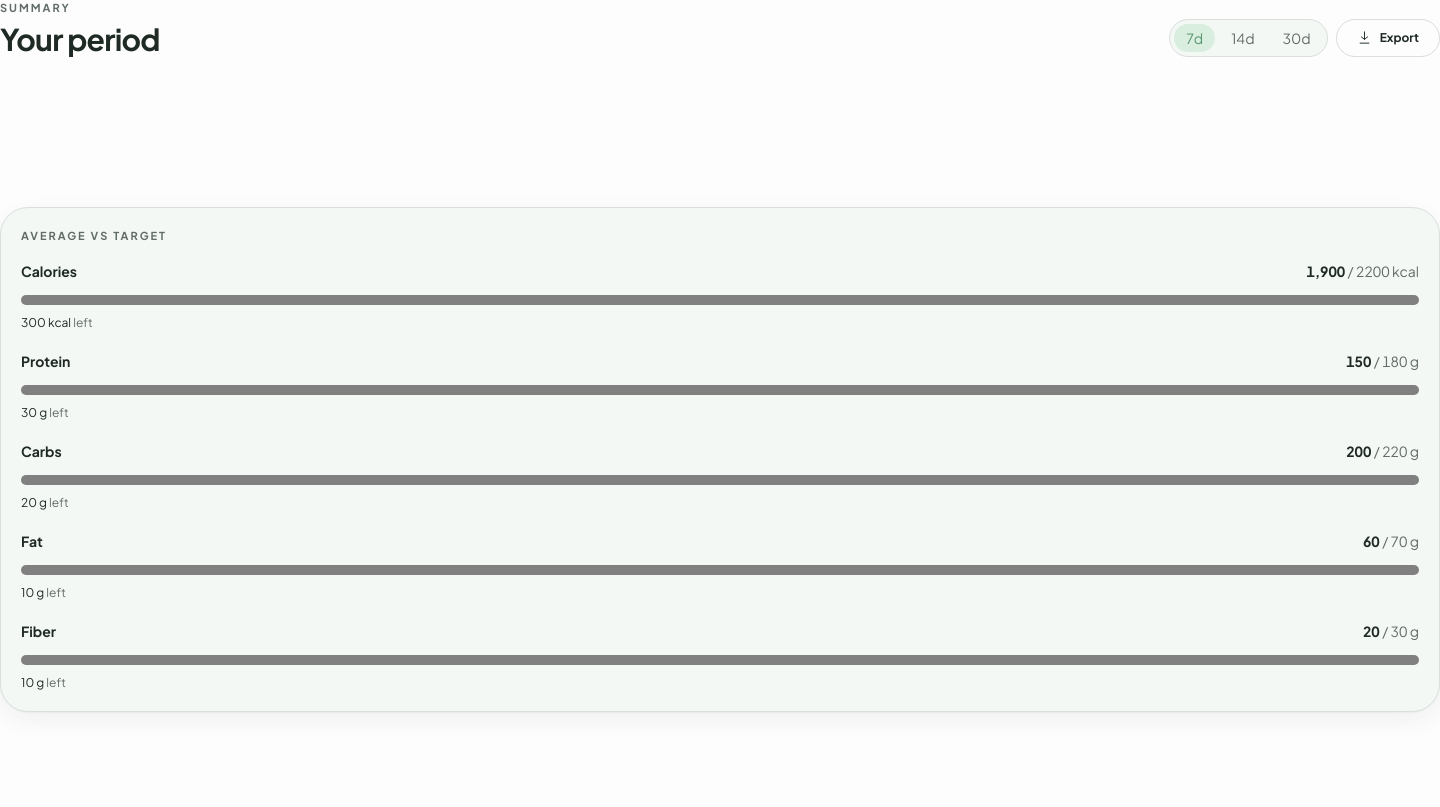
Summary › opens and closes the export modal
The image size is (1440, 807).
Click the button "Export" at (1388, 38), box [1336,18,1439,56]
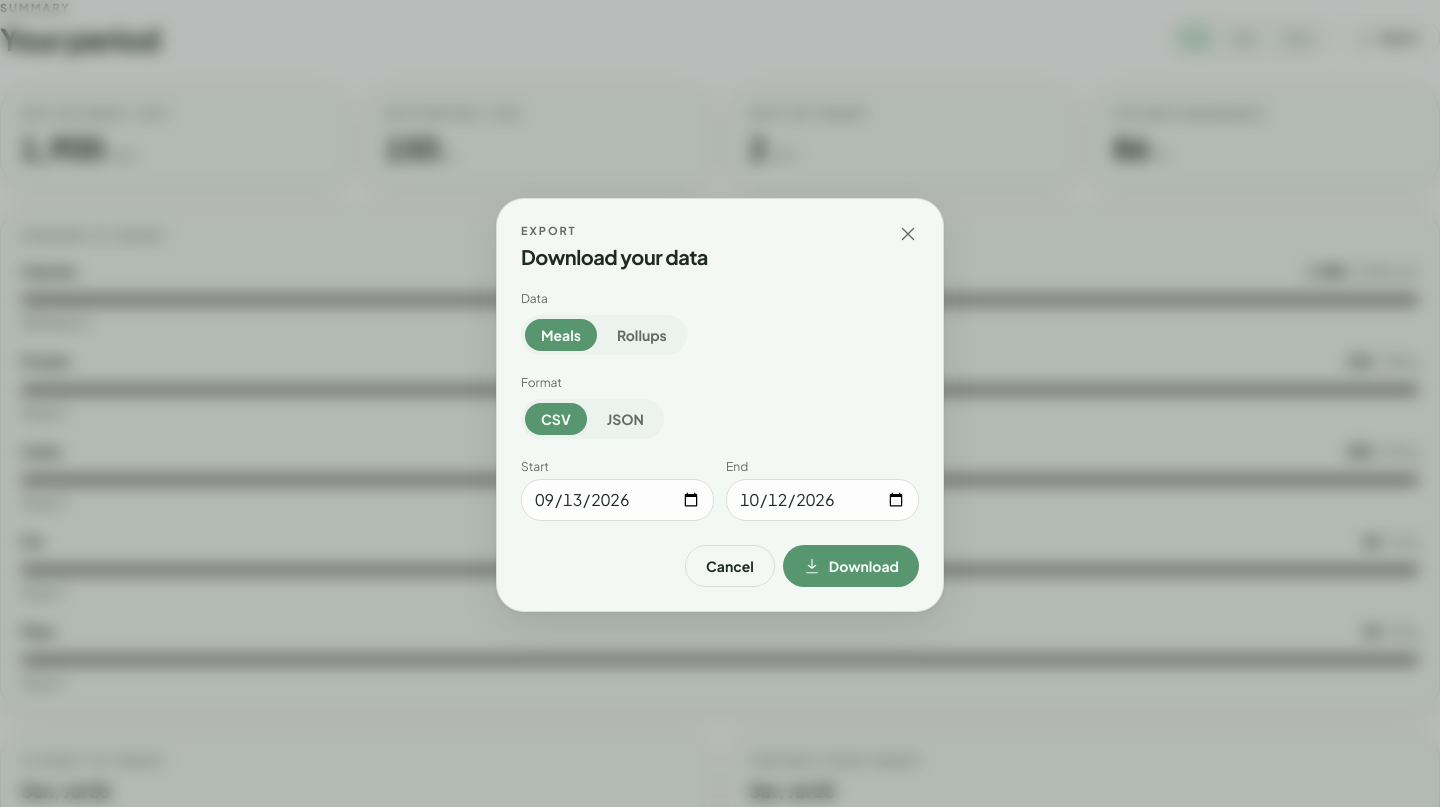
Check: the heading "Download your data" is shown, box [521,243,708,271]
Click the button "Cancel" at (730, 566), box [685,545,775,587]
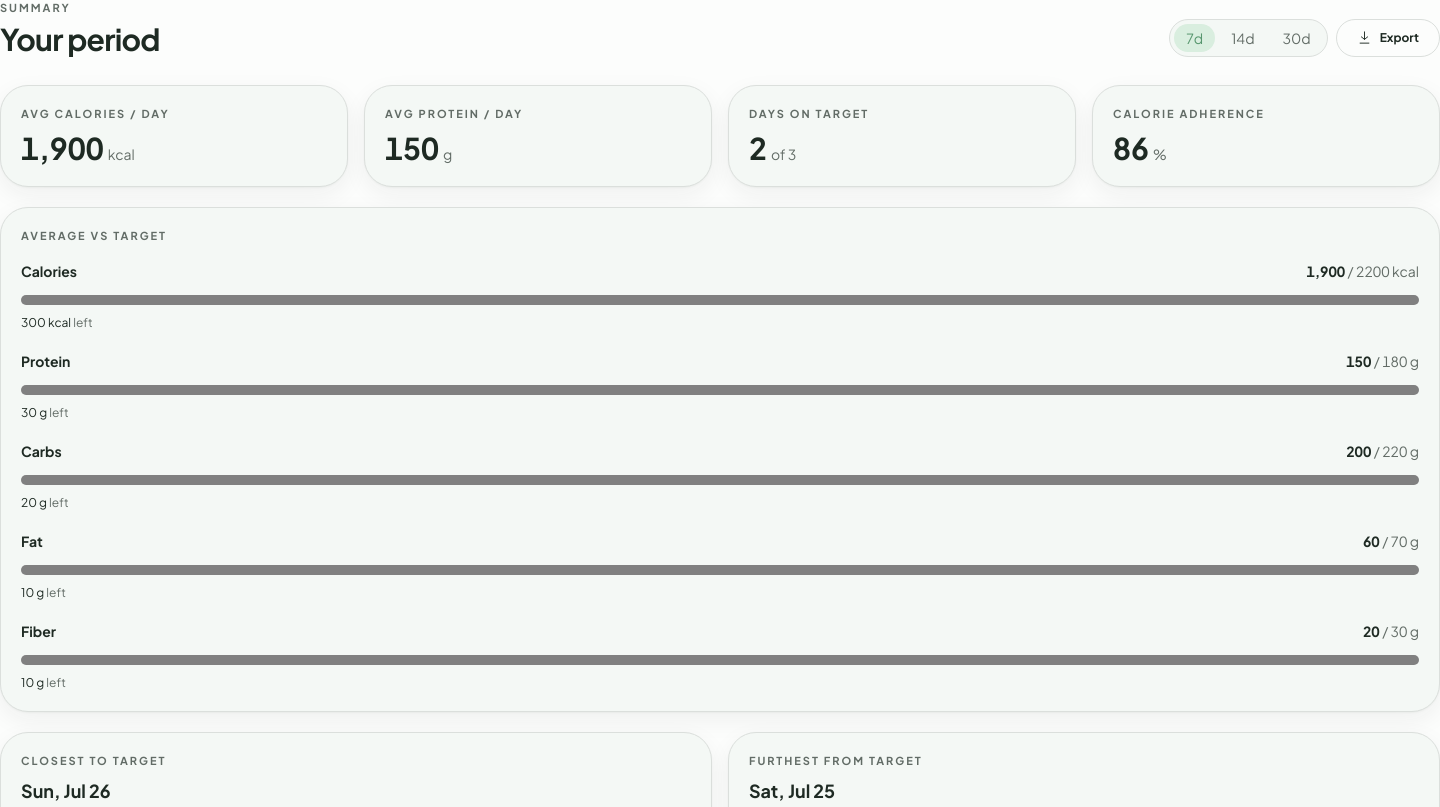
Check: the heading "Download your data" is gone
